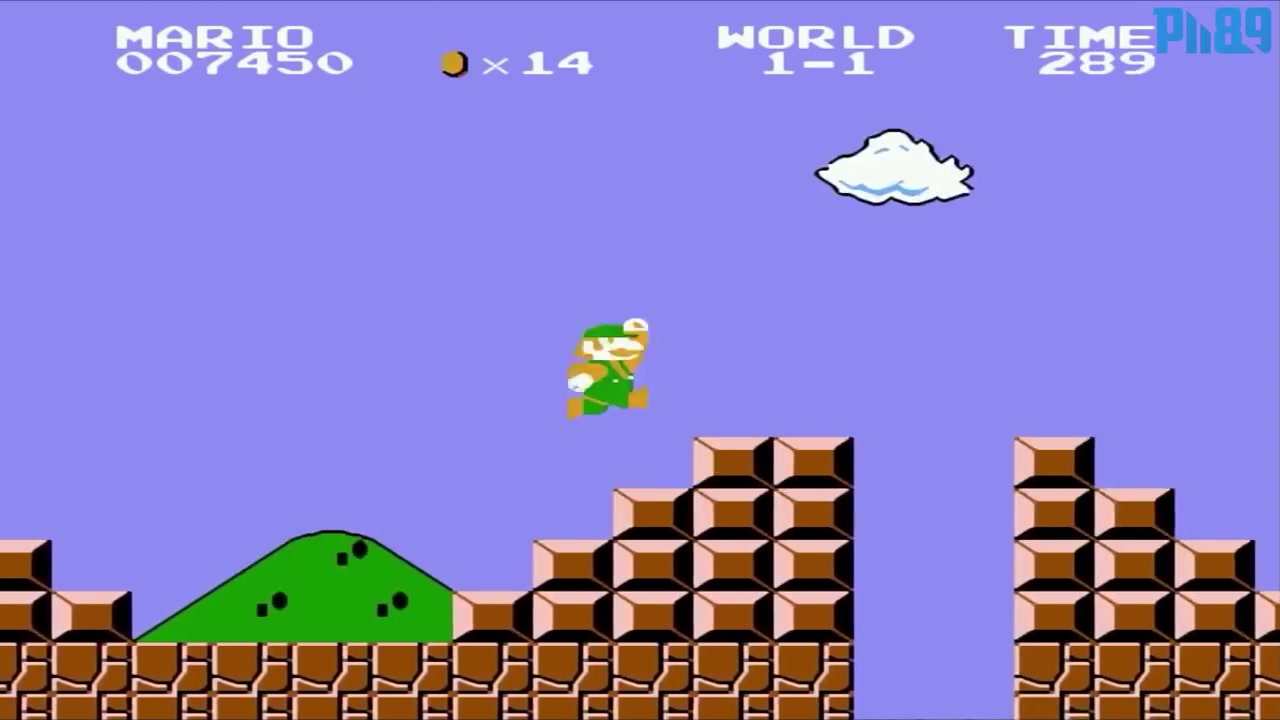mario: (557, 309, 660, 428)
